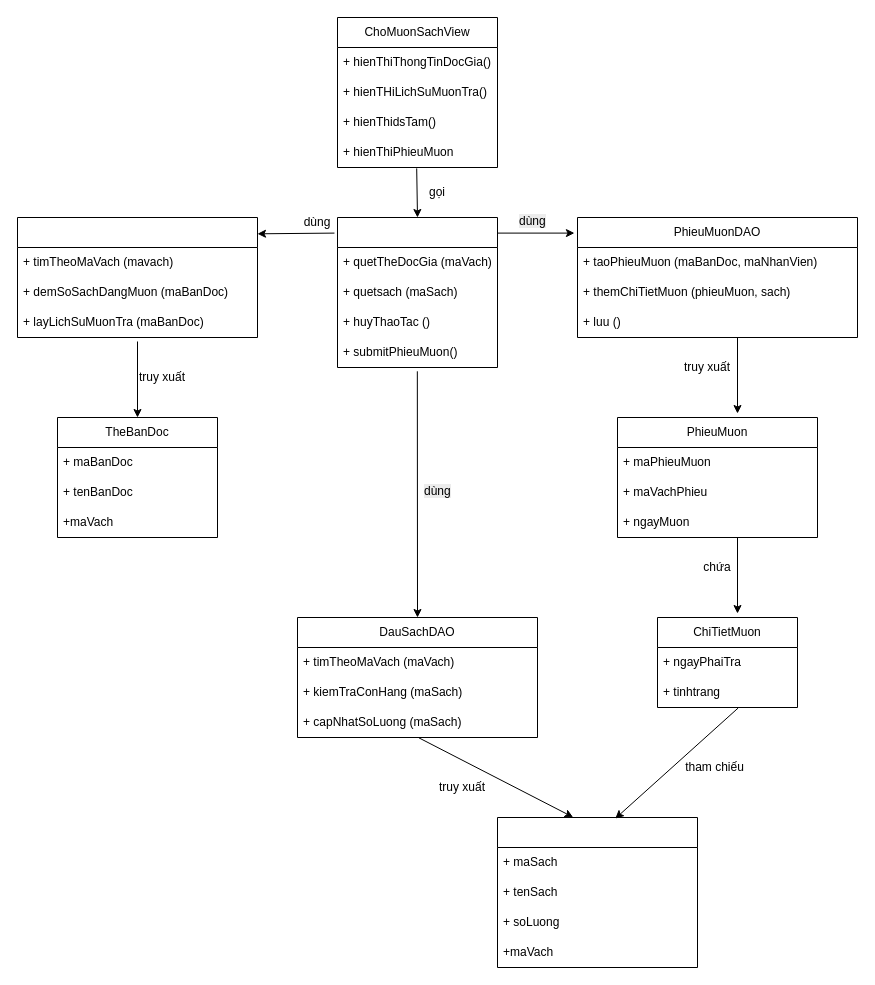
This 875x985 diagram has some shape labels left out. Each missing label, with the box of its shape:
BanDocDAO: (16, 216, 258, 338)
ChoMuonSachController: (336, 216, 498, 368)
DauSach: (496, 816, 698, 968)
